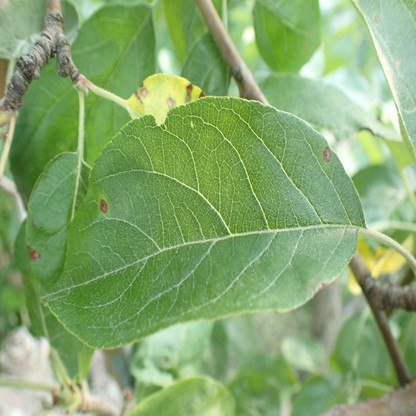frogeye_leaf_spot: (323, 227, 356, 242), (27, 244, 42, 261), (323, 144, 332, 163), (100, 198, 109, 214), (184, 83, 191, 102), (167, 97, 174, 108), (394, 57, 400, 67), (199, 92, 206, 99), (141, 89, 147, 96), (376, 14, 379, 23)
